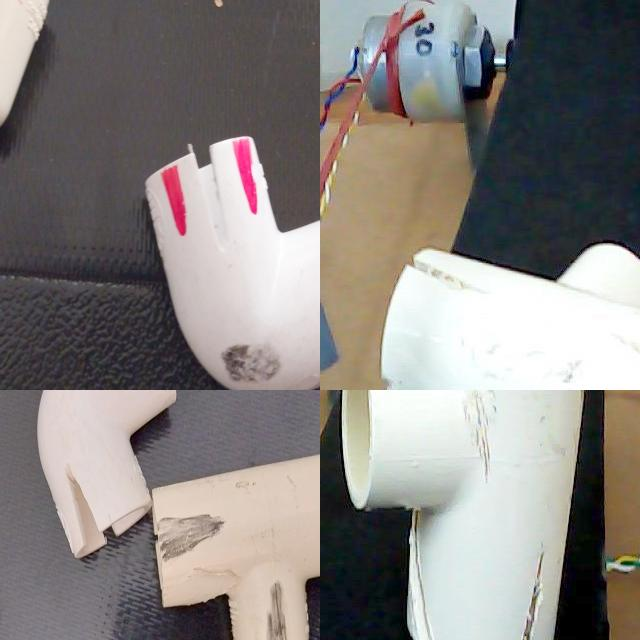Defective: (450, 390, 526, 511), (392, 502, 448, 640), (407, 259, 493, 318), (517, 529, 550, 640), (408, 513, 435, 640), (516, 552, 544, 640), (0, 349, 60, 390), (0, 265, 44, 299)
L Joint: (48, 0, 193, 110), (0, 242, 53, 390)
T Joint: (341, 390, 586, 640), (380, 242, 640, 390)
